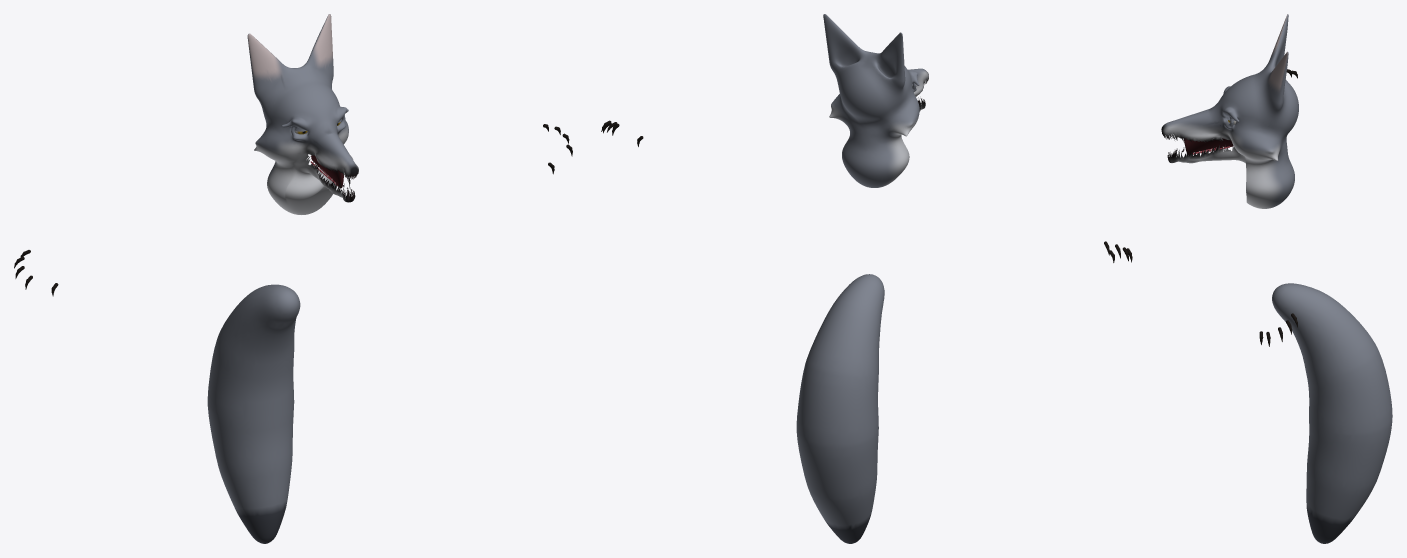
File: female_wolf.glb
3 renders of one model, left to right at view 1: azimuth 30°, elevation 25°; view 2: azimuth 150°, elevation 25°; view 3: azimuth 270°, elevation 25°, orthographic. The views are drawn at different scales.
Parts seen in each view (by area): view 1: AnimalTail, AnimalHead; view 2: AnimalTail, AnimalHead; view 3: AnimalTail, AnimalHead.
Boxes of the visible parts, bbox=[...] form: AnimalTail: bbox=[207, 284, 300, 543]; AnimalHead: bbox=[247, 14, 358, 214]; AnimalTail: bbox=[796, 274, 884, 543]; AnimalHead: bbox=[823, 14, 928, 187]; AnimalTail: bbox=[1272, 283, 1392, 543]; AnimalHead: bbox=[1161, 14, 1298, 208].
Size of the model in its own units: 1.59 by 1.46 by 0.5958.
